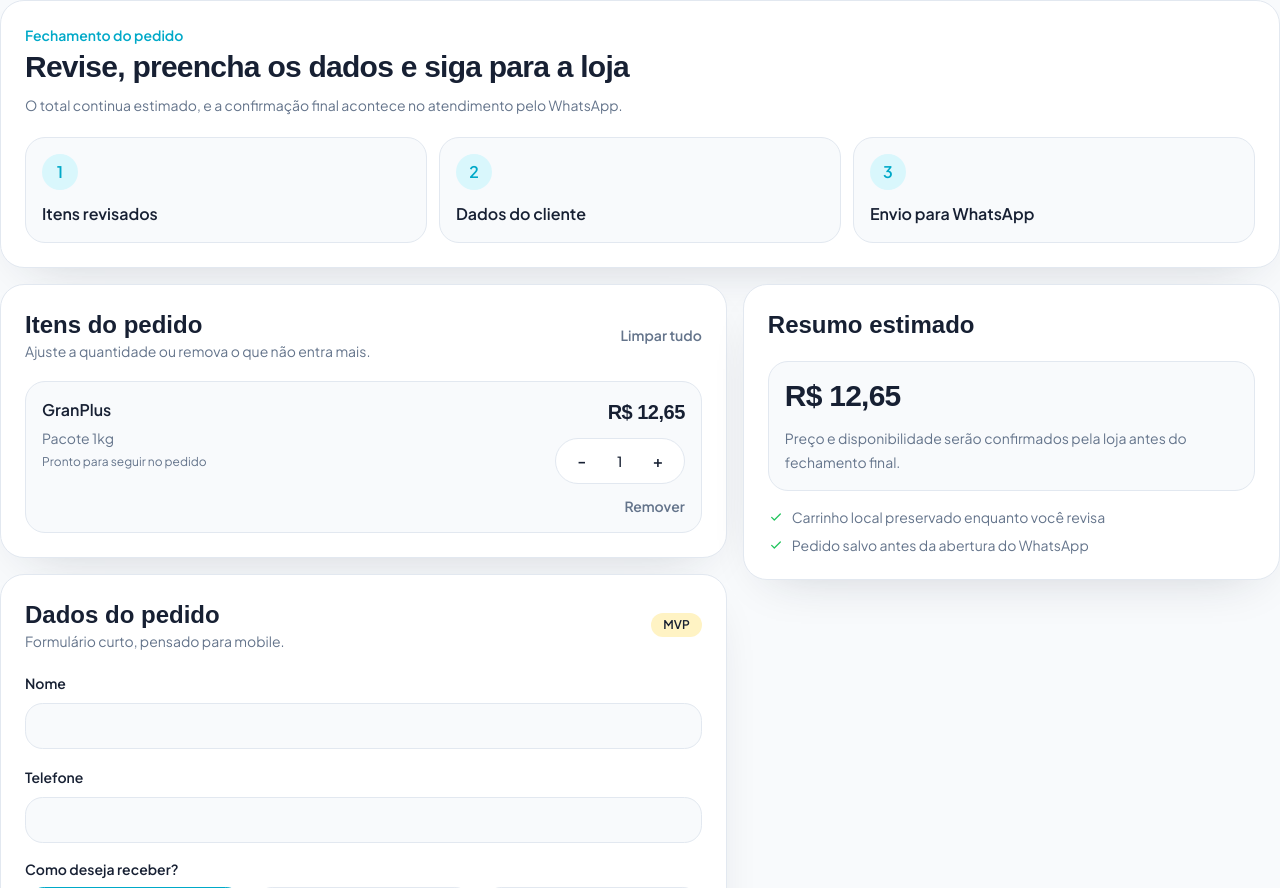
OrderPageClient › formats phone input while typing
This screenshot has width=1280, height=888.
Type "85999990000" into the field labelled "Telefone".
click(363, 820); type("85999990000")  # box [25,797,702,843]
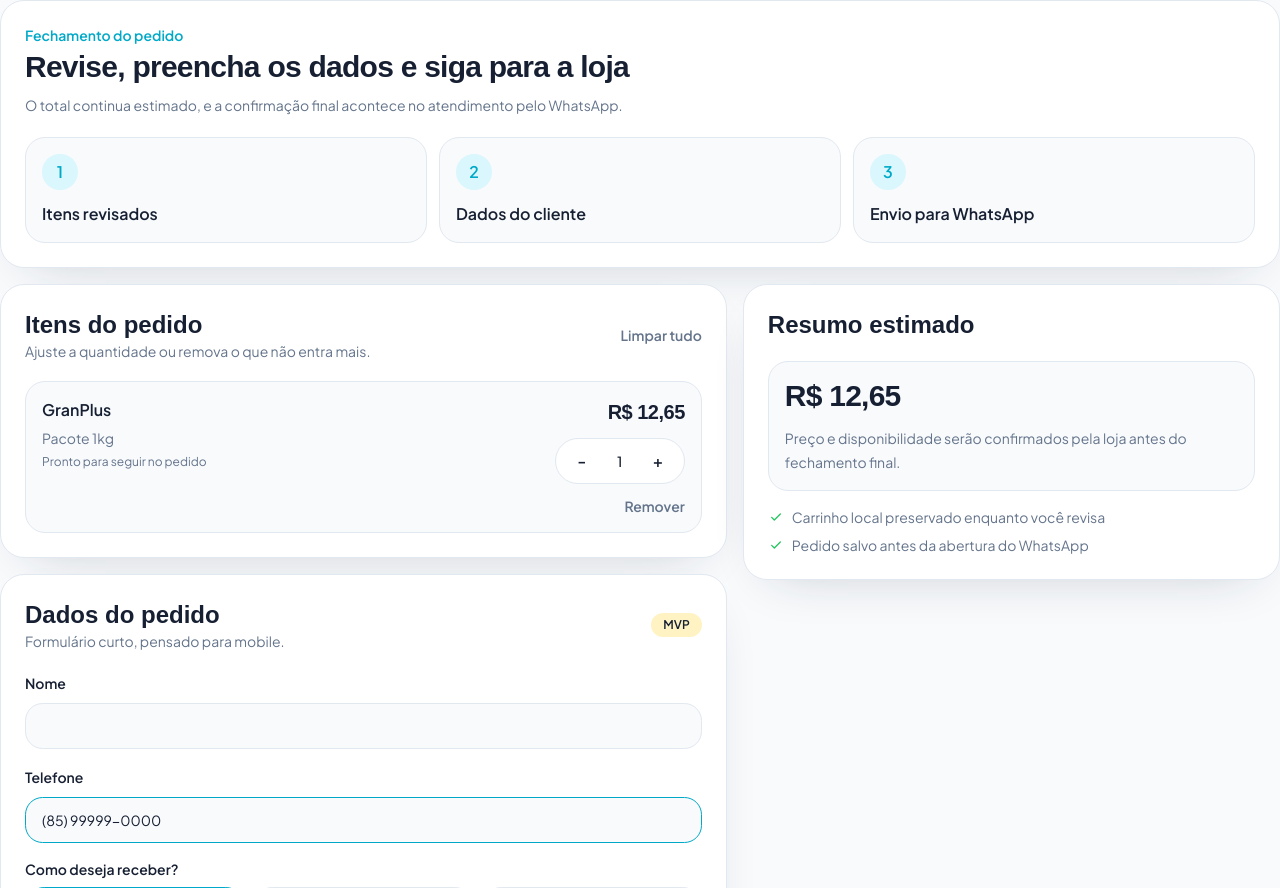
Now the field labelled "Telefone" holds "(85) 99999-0000", box [25,797,702,843]
